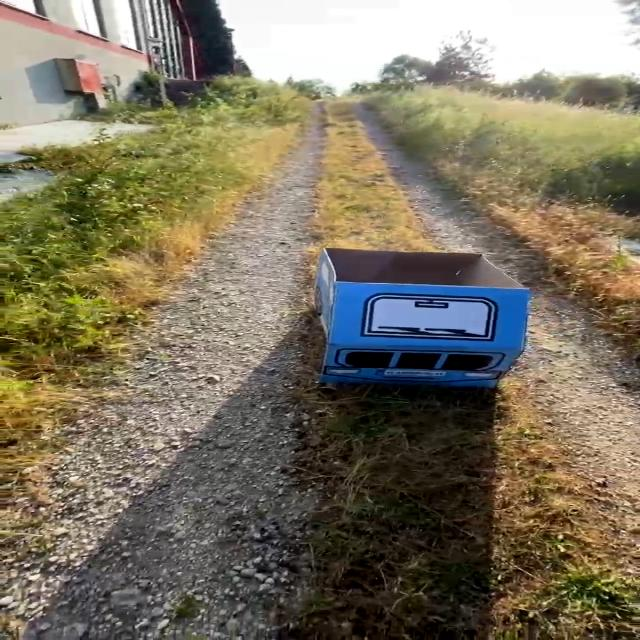blue_car: (247, 222, 569, 416)
